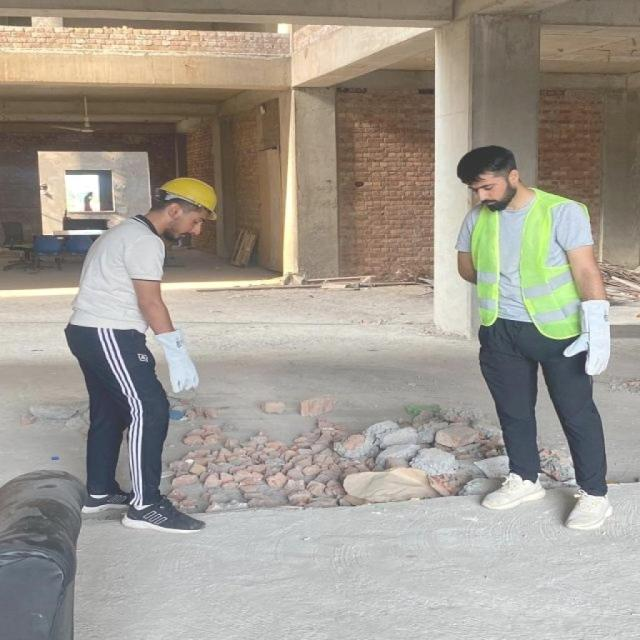Gloves-Detection: (560, 296, 620, 380), (150, 324, 207, 395)
